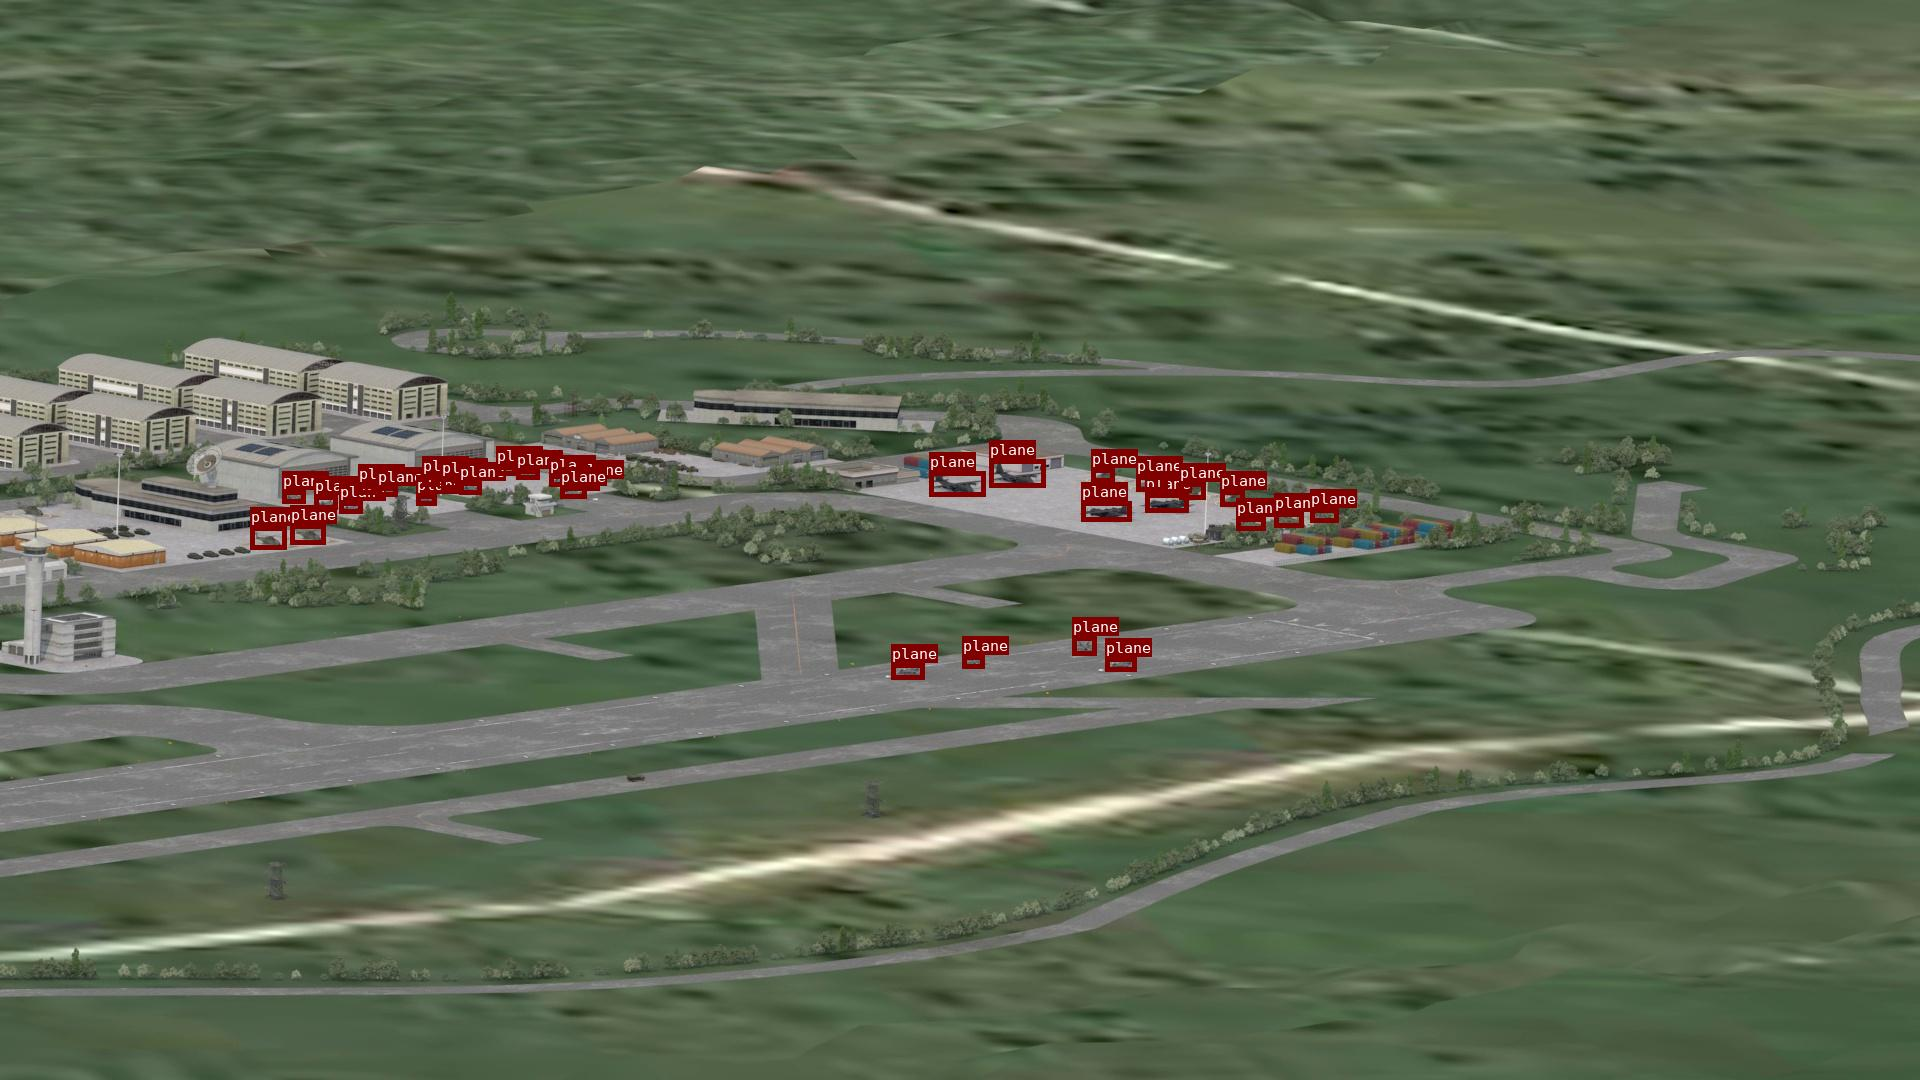plane: (989, 459, 1044, 487), (928, 471, 985, 496), (1081, 501, 1131, 521), (1145, 493, 1188, 512), (251, 526, 286, 549), (290, 524, 324, 545), (891, 663, 924, 679), (1135, 475, 1167, 491), (1072, 636, 1096, 655), (1274, 512, 1303, 527), (1105, 657, 1135, 671), (1309, 508, 1338, 522), (1179, 483, 1205, 498), (1236, 517, 1265, 530), (1220, 491, 1244, 506), (1091, 468, 1114, 483), (314, 495, 338, 509), (549, 473, 574, 487), (560, 487, 585, 498), (459, 481, 481, 495), (339, 501, 363, 513), (963, 655, 984, 669), (282, 491, 305, 502), (578, 479, 599, 491), (415, 495, 436, 505), (440, 477, 459, 489), (516, 469, 539, 479), (357, 483, 375, 495), (422, 475, 439, 487), (377, 487, 397, 496), (496, 465, 516, 475)
